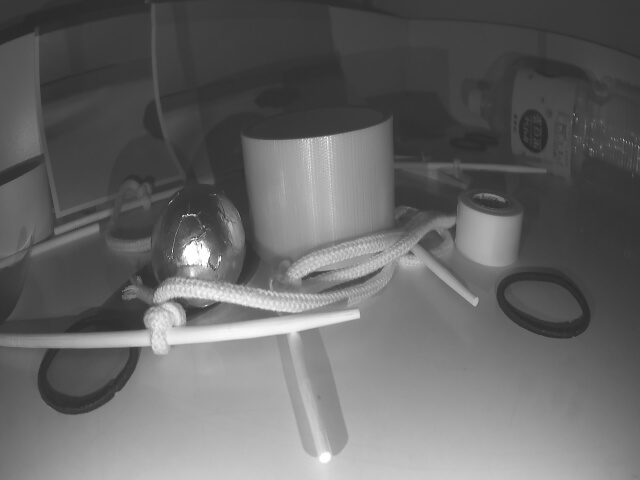Live: (149, 187, 248, 306)
